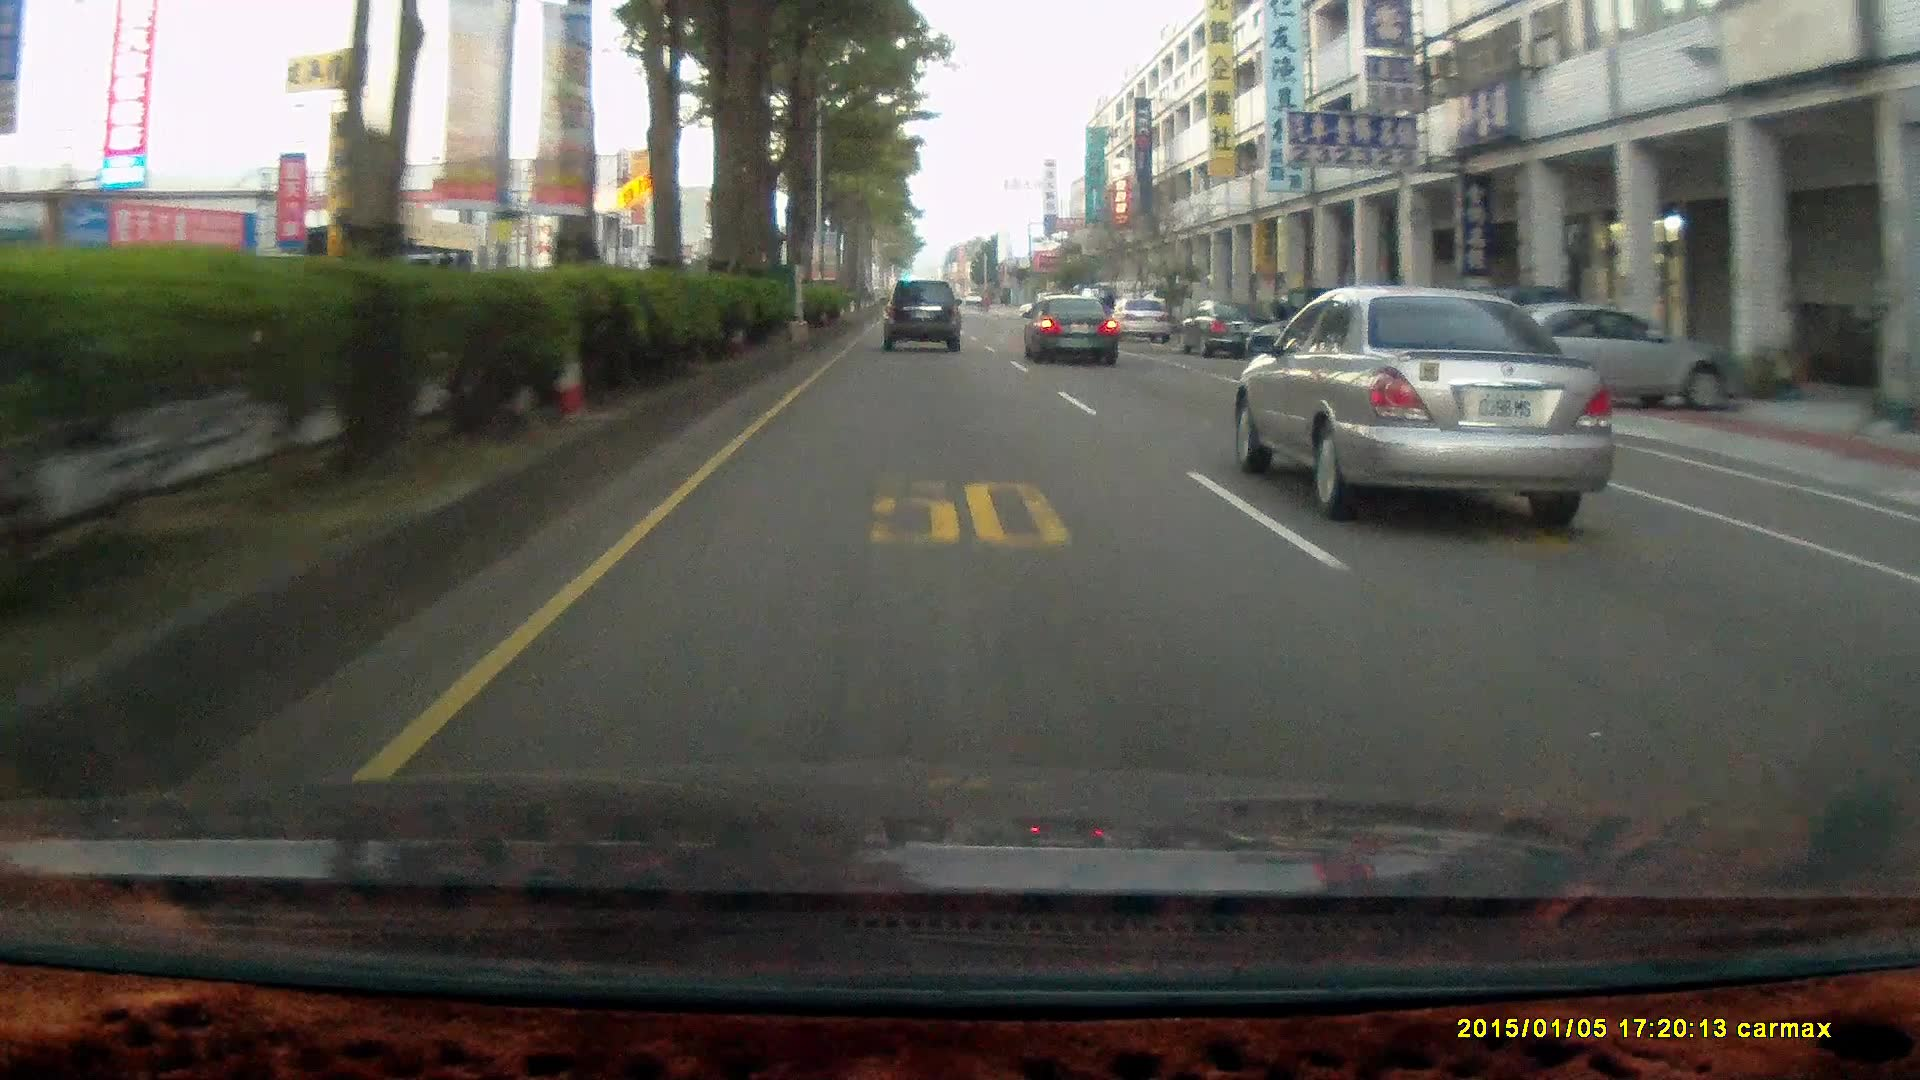vehicle: (1226, 286, 1630, 527), (1443, 301, 1751, 413), (1451, 298, 1747, 411), (1025, 294, 1124, 365), (1021, 294, 1116, 368), (884, 280, 967, 357), (1176, 295, 1273, 356), (880, 280, 963, 349), (1112, 295, 1174, 345), (1106, 295, 1170, 344)
